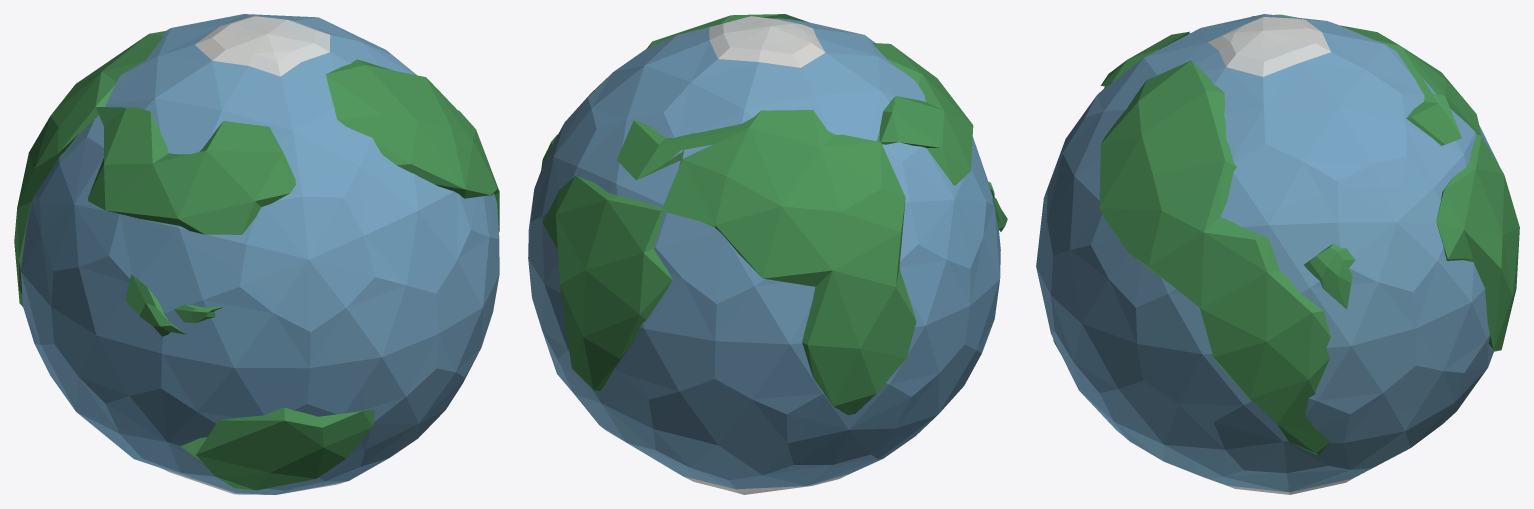
The model's file is earth2.glb.
The picture shows the model from 3 angles, left to right: view 1: azimuth 30°, elevation 25°; view 2: azimuth 150°, elevation 25°; view 3: azimuth 270°, elevation 25°; orthographic projection.
Parts seen in each view (by area): view 1: node-0; view 2: node-0; view 3: node-0.
Boxes of the visible parts, <box> form: node-0: <box>14,14,499,494</box>; node-0: <box>528,14,1007,494</box>; node-0: <box>1036,14,1519,494</box>.
Bounding box in the file's own units: 2.07 × 2.1 × 2.07.
1 material, 1 textured.
